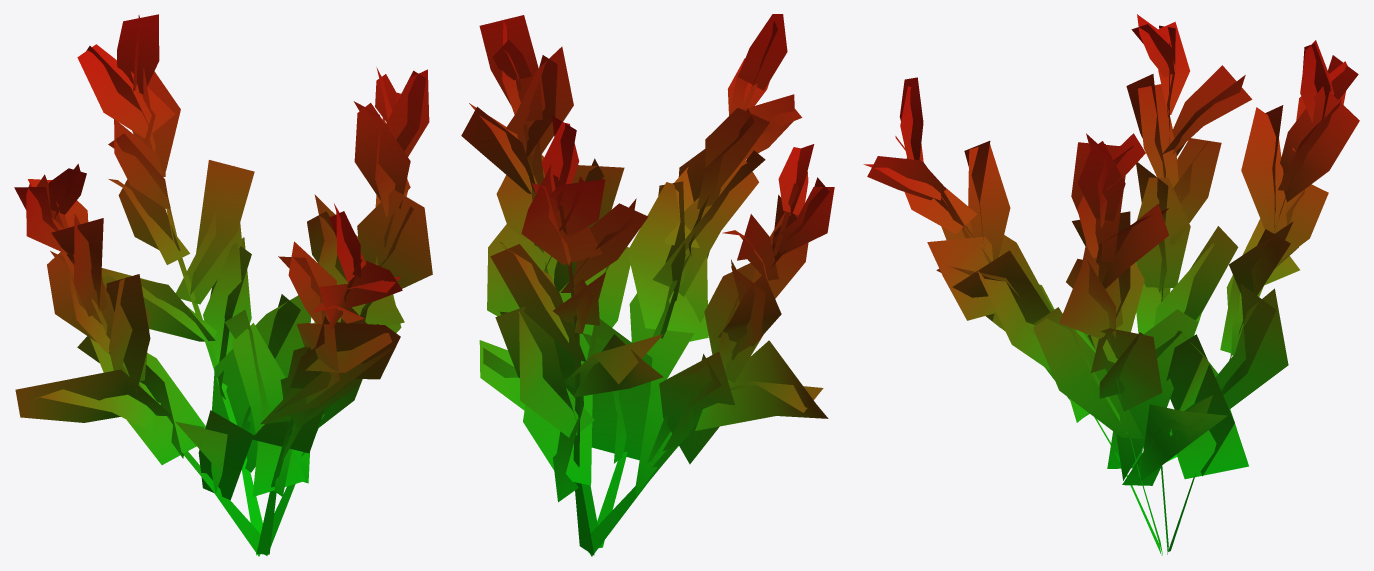
Rendered from Chamomile_LOD3_Var8.fbx.
3 renders of one model, left to right at view 1: azimuth 30°, elevation 25°; view 2: azimuth 150°, elevation 25°; view 3: azimuth 270°, elevation 25°, orthographic. The views are drawn at different scales.
Parts seen in each view (by area): view 1: _jem0_Var8_LOD3; view 2: _jem0_Var8_LOD3; view 3: _jem0_Var8_LOD3.
Part boxes in pixels (x1,y1,x2,y2): _jem0_Var8_LOD3: [14, 14, 432, 556]; _jem0_Var8_LOD3: [461, 14, 834, 556]; _jem0_Var8_LOD3: [863, 14, 1359, 555].
Size of the model in its own units: 22.56 by 28.21 by 25.91.
